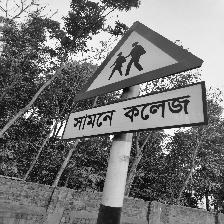College-in-front: (72, 27, 199, 156)
